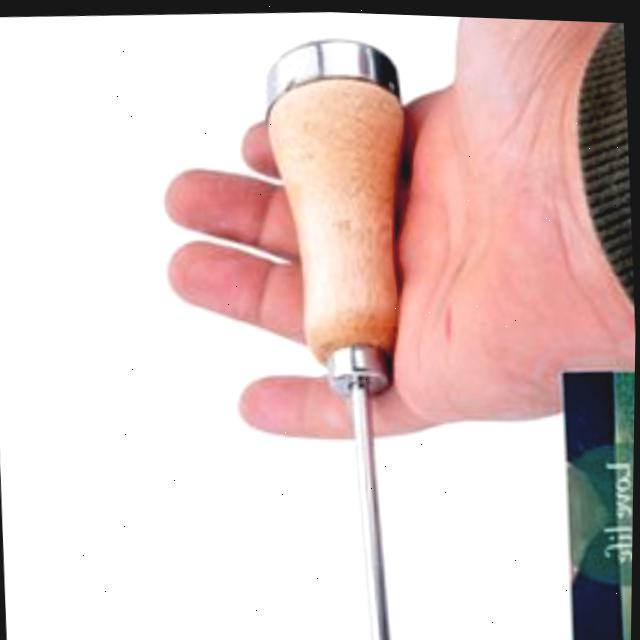ice pick: (256, 27, 432, 640)
